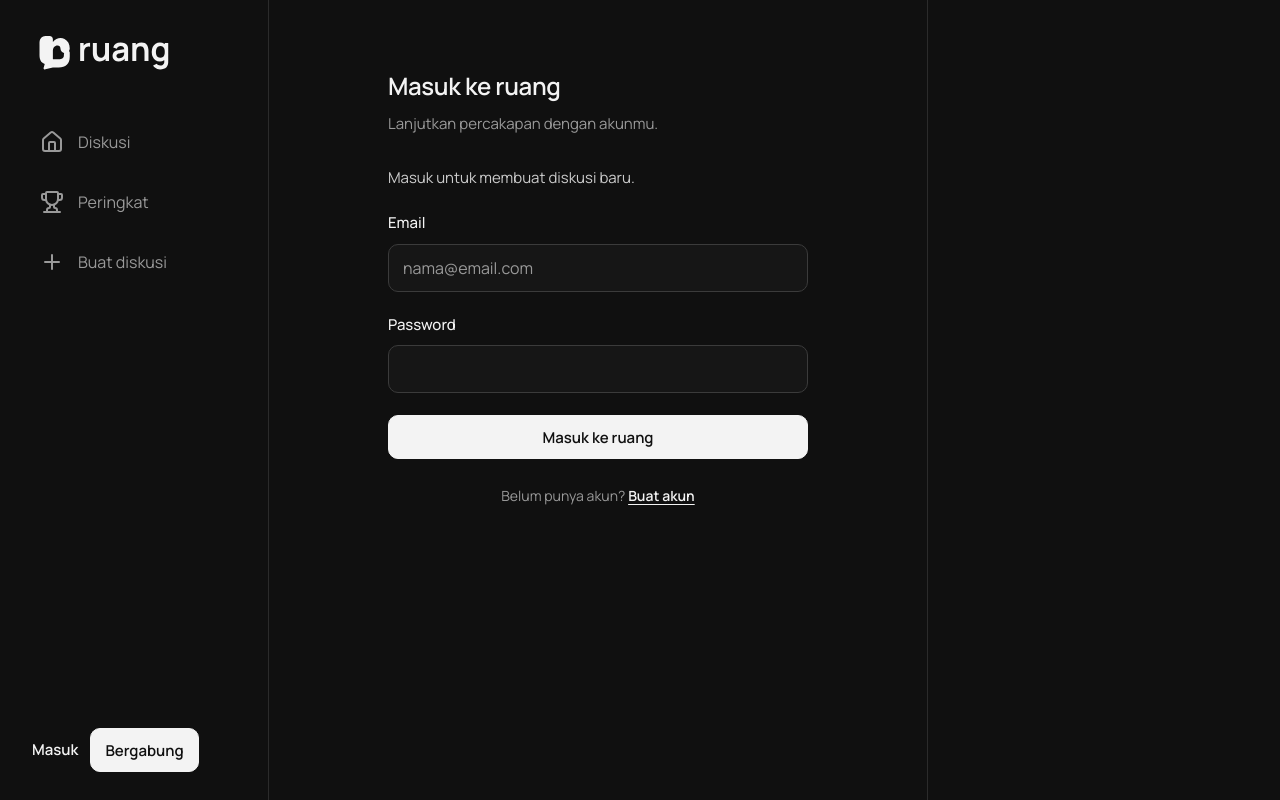
alur login Ruang Diskusi › kembali ke halaman terproteksi yang diminta setelah login
Expected: the text with class "form-note" shows "Masuk untuk membuat diskusi", [388, 167, 635, 188]
Type "e2e@example.com" into the field with id "login-email". click: (598, 268)
box: [388, 244, 808, 292]
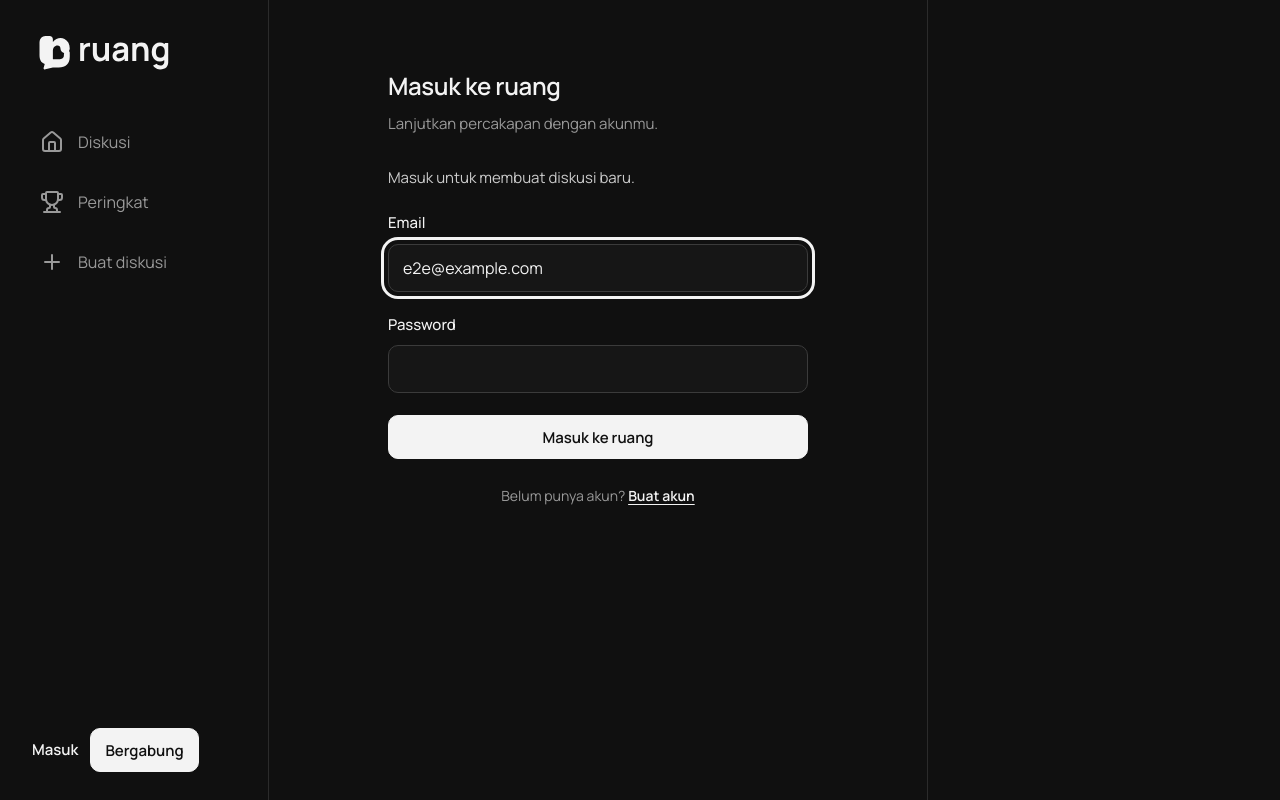
Type "test-password" into the password field with id "login-password". click: (598, 369)
box: [388, 345, 808, 393]
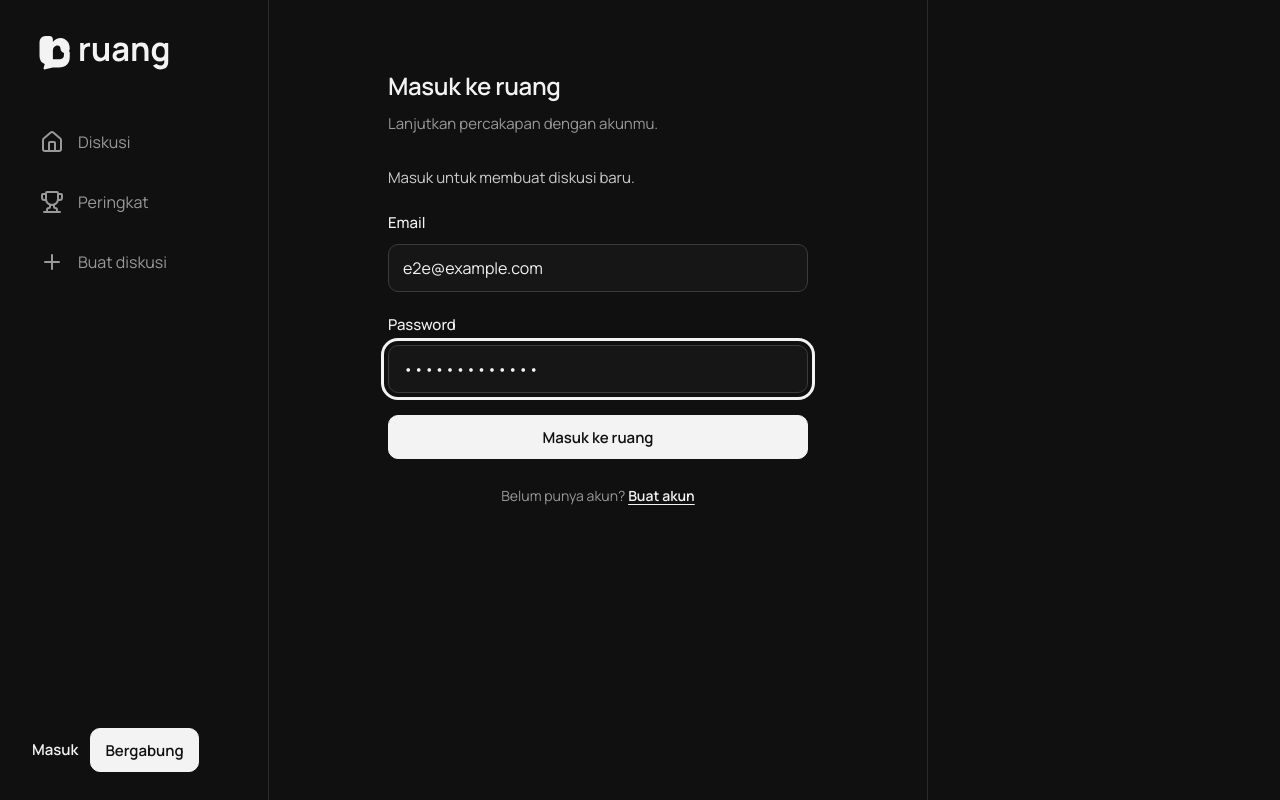
Click the submit button. click: (598, 437)
box: [388, 415, 808, 459]
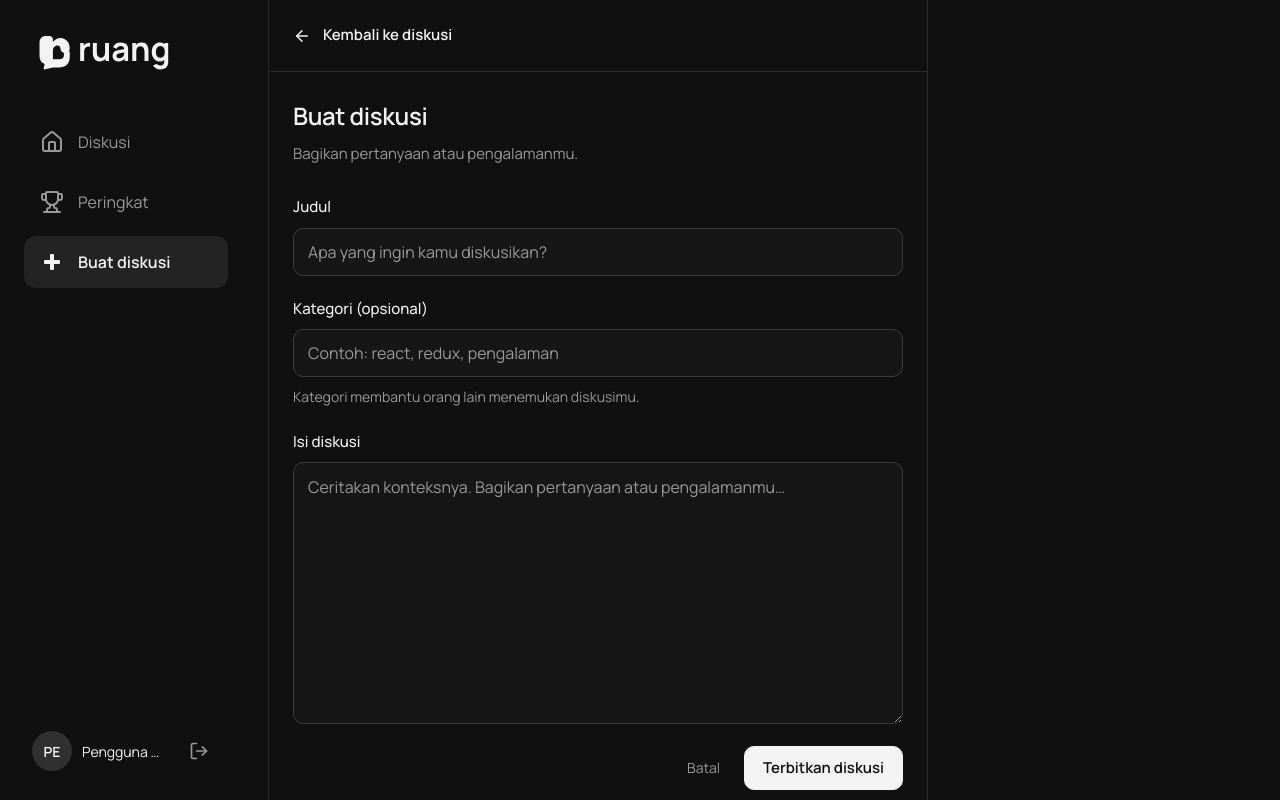
Now the heading "Buat diskusi" is shown, box [293, 99, 427, 132]
Now the field with id "thread-title" is shown, box [293, 228, 903, 276]
Now the element with class "account-user" shows "Pengguna E2E", box [32, 731, 166, 771]
